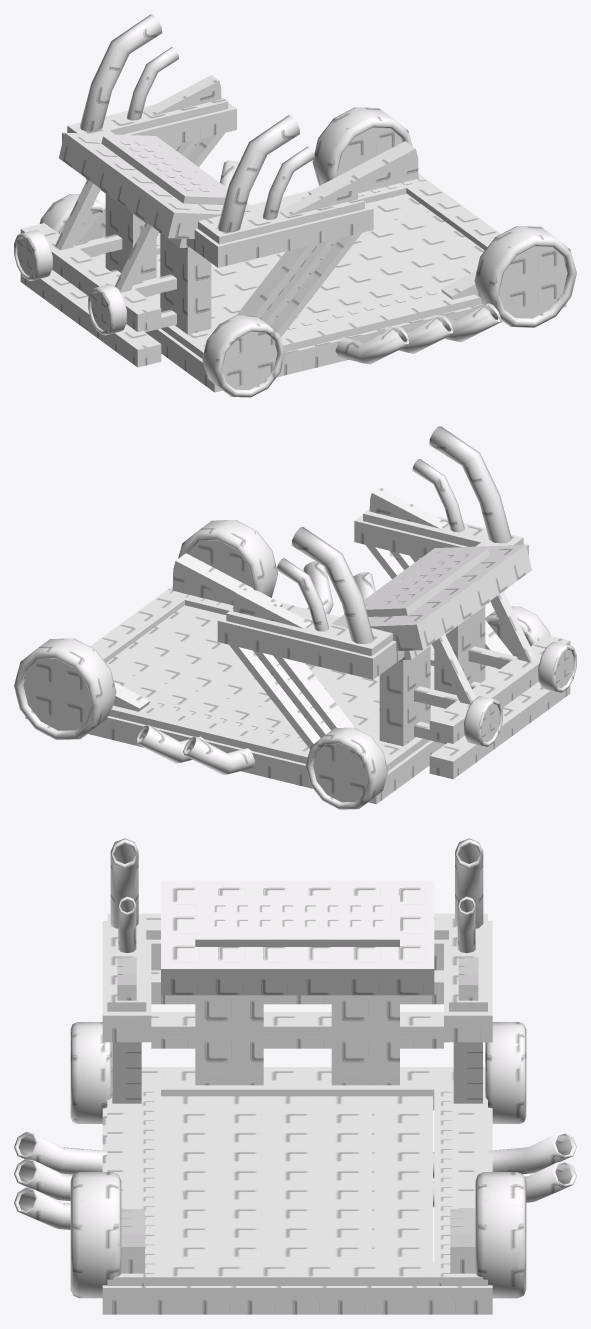
File: 09-ghost.obj
3 renders of one model, top to bottom at view 1: azimuth 30°, elevation 25°; view 2: azimuth 150°, elevation 25°; view 3: azimuth 270°, elevation 25°, orthographic. The views are drawn at different scales.
Parts seen in each view (by area): view 1: Part28, Cylinder13, Part48, Part50, Cylinder0014, Part35, Part34, Part6, Part27, Part55, Part26, Cylinder8 (+42 smaller); view 2: Part28, Cylinder15, Part3, Part5, Part52, Cylinder0016, Part34, Part56, Part27, Part55, Part19, Cylinder8 (+42 smaller); view 3: Part28, Part23, Part19, Part26, Part34, Part50, Part5, Part9, Part24, Part35, Part52, Cylinder15 (+32 smaller).
Boxes of the visible parts, bbox=[...] form: Part28: bbox=[59, 132, 259, 238]; Cylinder13: bbox=[474, 226, 576, 327]; Part48: bbox=[198, 203, 373, 267]; Part50: bbox=[211, 241, 484, 324]; Cylinder0014: bbox=[499, 246, 567, 318]; Part35: bbox=[160, 234, 211, 334]; Part34: bbox=[211, 226, 471, 304]; Part6: bbox=[281, 294, 482, 352]; Part27: bbox=[20, 270, 161, 367]; Part55: bbox=[20, 223, 161, 331]; Part26: bbox=[214, 260, 479, 326]; Cylinder8: bbox=[218, 115, 299, 232]; Part28: bbox=[331, 545, 531, 650]; Cylinder15: bbox=[14, 638, 116, 739]; Part3: bbox=[217, 615, 392, 679]; Part5: bbox=[106, 652, 379, 734]; Part52: bbox=[379, 646, 430, 746]; Cylinder0016: bbox=[23, 658, 91, 730]; Part34: bbox=[121, 637, 379, 714]; Part56: bbox=[109, 705, 309, 763]; Part27: bbox=[429, 681, 570, 779]; Part55: bbox=[429, 635, 570, 743]; Part19: bbox=[111, 669, 378, 738]; Cylinder8: bbox=[429, 426, 511, 543]; Part28: bbox=[161, 881, 434, 995]; Part23: bbox=[102, 1285, 492, 1314]; Part19: bbox=[372, 1096, 432, 1262]; Part26: bbox=[161, 1096, 218, 1262]; Part34: bbox=[269, 1096, 320, 1262]; Part50: bbox=[218, 1096, 269, 1262]; Part5: bbox=[321, 1096, 371, 1262]; Part9: bbox=[111, 1067, 485, 1098]; Part24: bbox=[161, 1262, 434, 1285]; Part35: bbox=[195, 995, 263, 1085]; Part52: bbox=[331, 995, 399, 1085]; Cylinder15: bbox=[475, 1172, 526, 1298].
Size of the model in its own units: 13.64 by 7.73 by 12.46.
60 materials, 60 textured.
